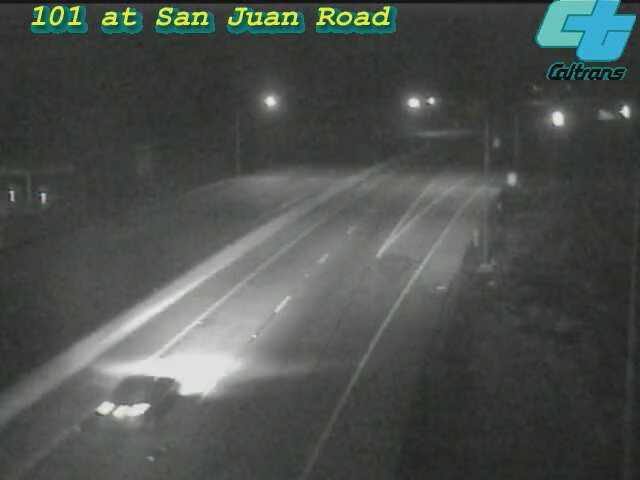vehicle: (78, 340, 188, 450), (584, 90, 634, 140), (533, 94, 583, 144), (601, 86, 640, 136)
